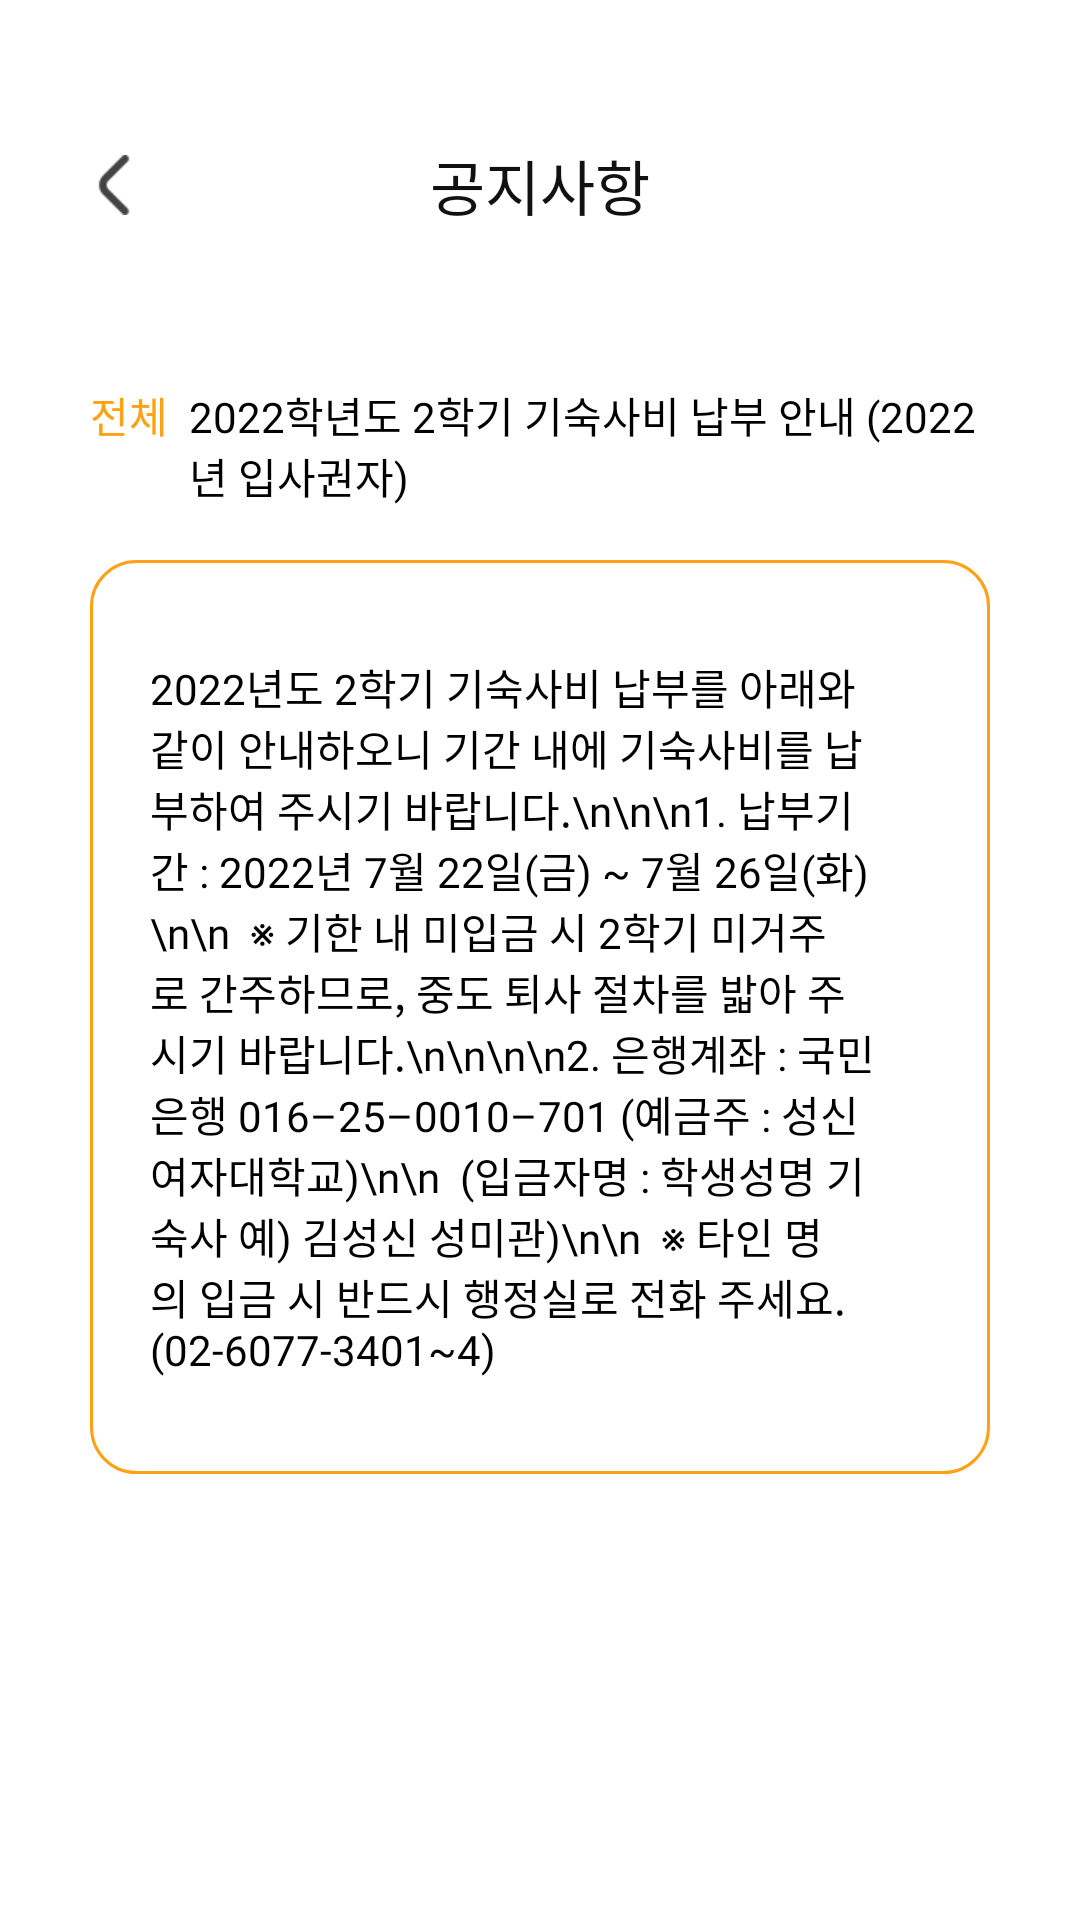

Icon bounding boxes for this 1080 x 1920 phone screenshot, format (x1, y1, x2, y2):
back: (98, 155, 130, 215)
